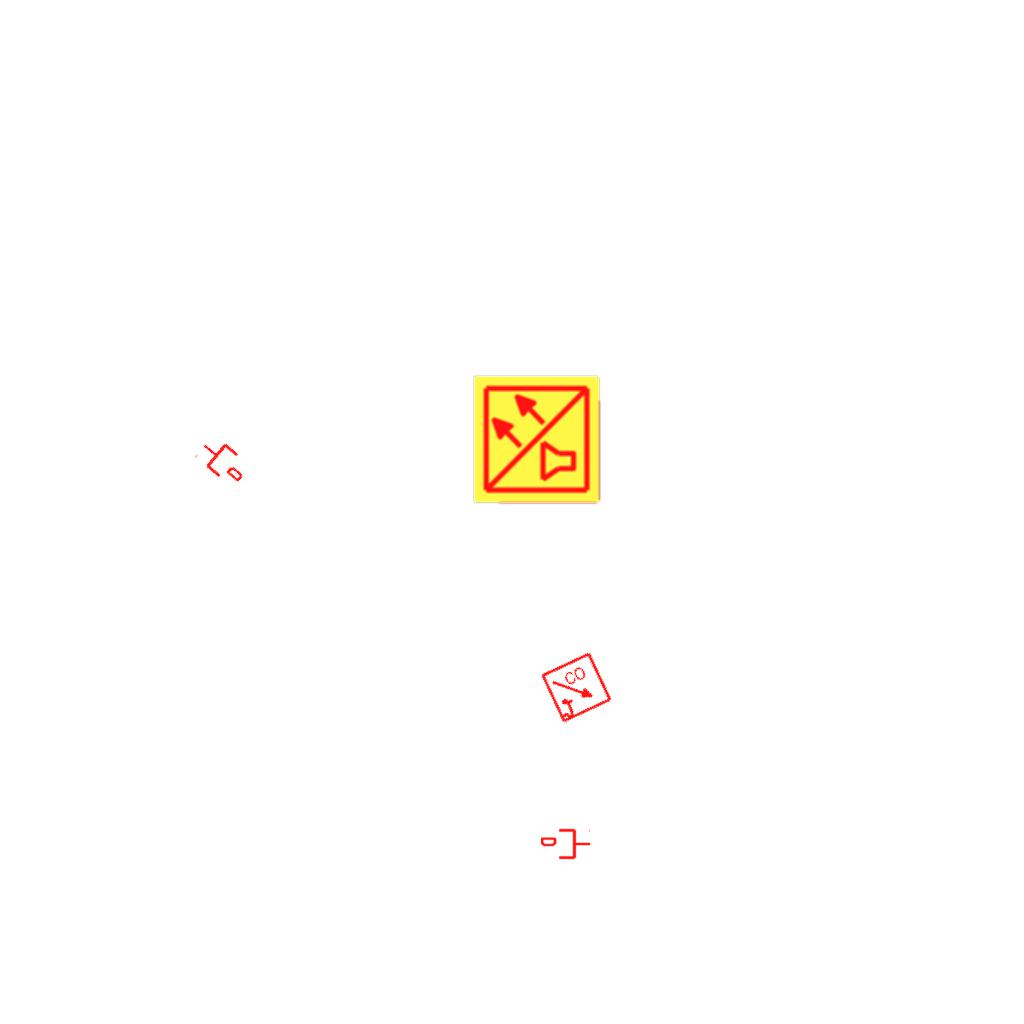Datenanschluss_einfach: (192, 431, 254, 491), (541, 827, 591, 861)
OKW_Multisensormelder_(Kombination_optischer_Rauch-Kahlenmonoxid_Waerme-Melder): (471, 373, 603, 505)
ROA_Rauchmelder_optisch_mit_Signalgeber_(Sockelsirene): (539, 650, 615, 726)
